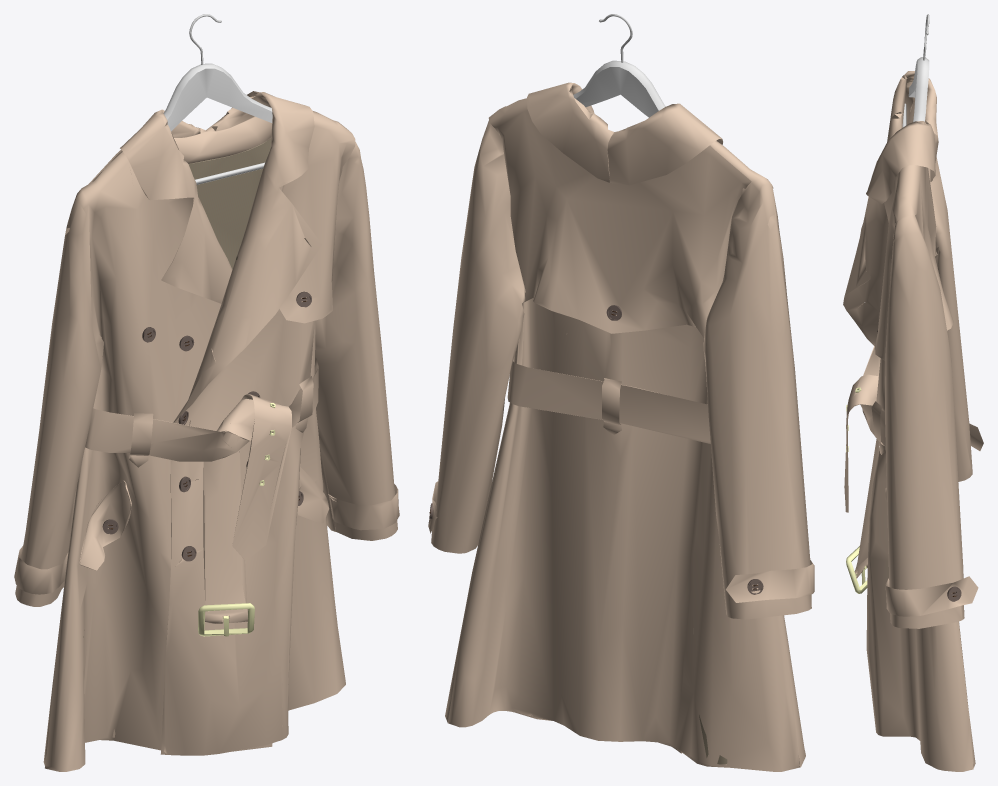
The model's file is plaw.glb.
The picture shows the model from 3 angles, left to right: view 1: azimuth 30°, elevation 25°; view 2: azimuth 150°, elevation 25°; view 3: azimuth 270°, elevation 25°; orthographic projection. The views are drawn at different scales.
Visible parts, largest first — view 1: BP_plaw; view 2: BP_plaw; view 3: BP_plaw.
Part boxes in pixels (x1,y1,x2,y2): BP_plaw: (14, 14, 399, 771); BP_plaw: (428, 14, 814, 771); BP_plaw: (843, 14, 983, 771).
Bounding box in the file's own units: 0.5717 × 1.06 × 0.1941.
Materials: 8 (2 with a texture image).
